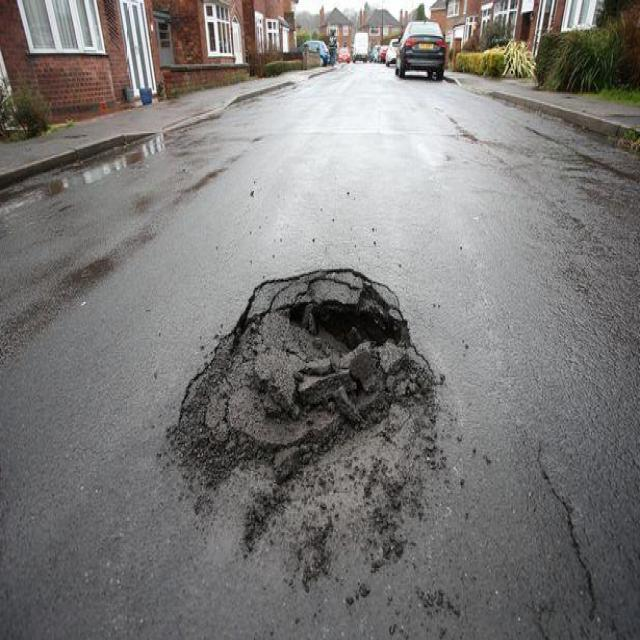Pothole: (170, 271, 435, 577)
